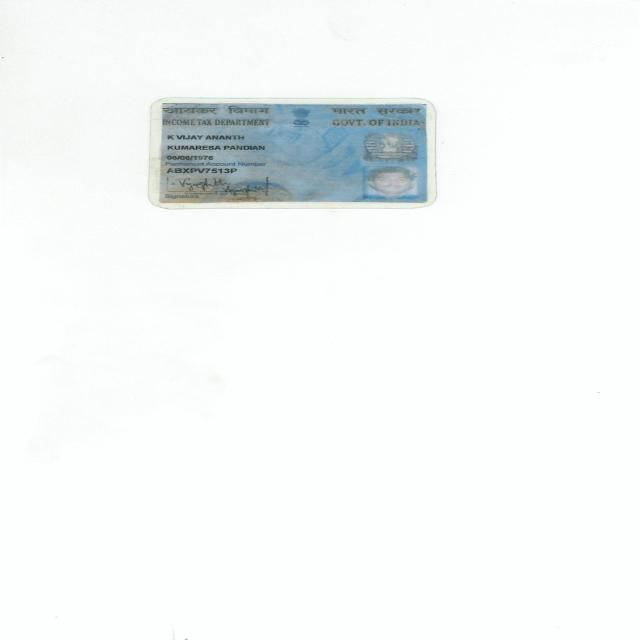pan_card: (157, 103, 426, 203)
